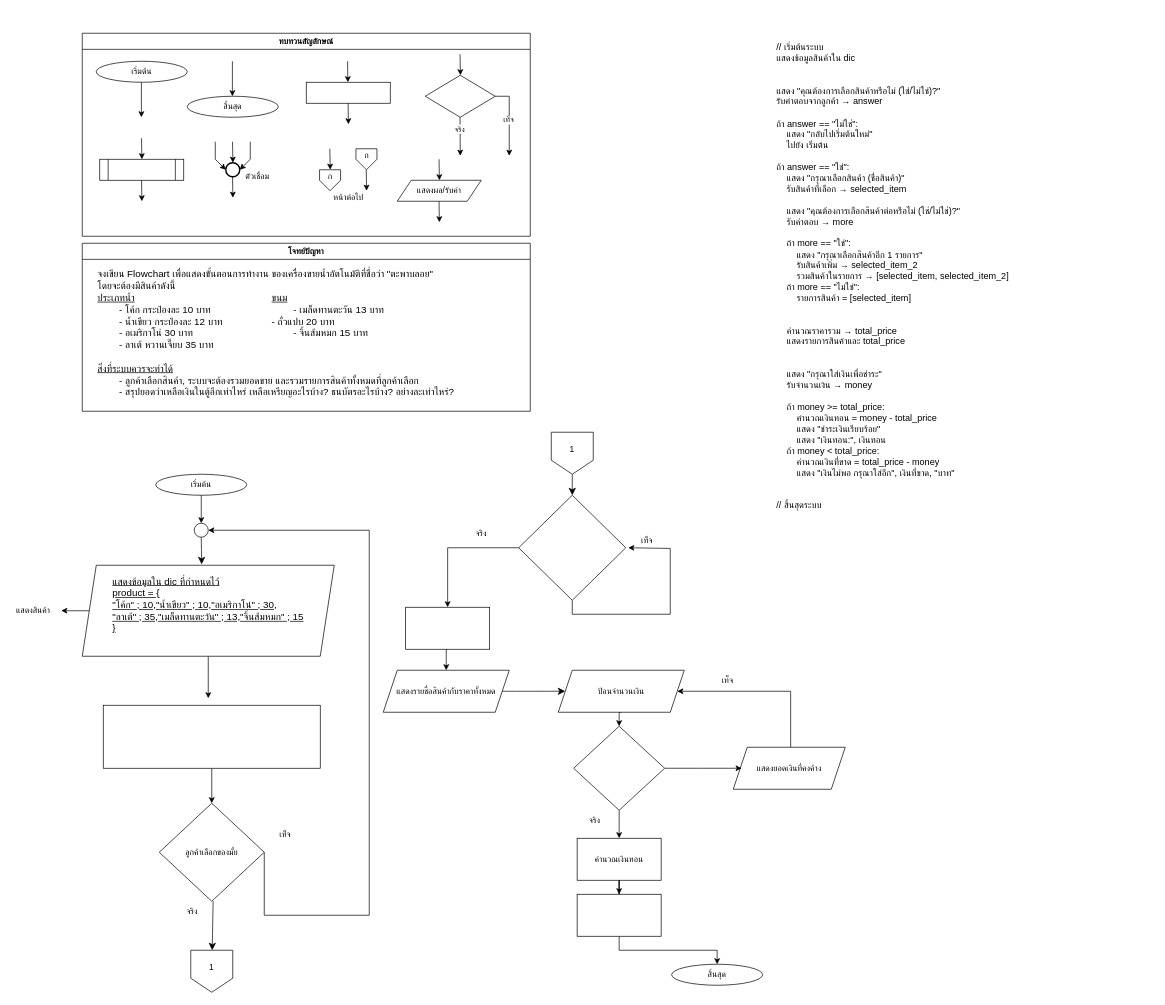
This 1165x1005 diagram has some shape labels left out. The shapes that lost their labels are listed below. From the top down, each one's centre as x and y in pixels, then its label:
point (348, 92): กระบวนการ
point (460, 96): ประโยคเงื่อนไข
point (141, 169): ฟังก์ชัน/โมดูล
point (572, 547): เลือกสินค้าเสร็จยัง?
point (447, 628): นำข้อมูลราคากับสินค้าเข้าในตัวแปร รวมสินค้าและราคาทั้งหมด
point (211, 736): ลูกค้าเลือกของ
point (619, 768): เงินพอไหม
point (618, 915): จ่ายสินค้า และ ตังต์ทอน
